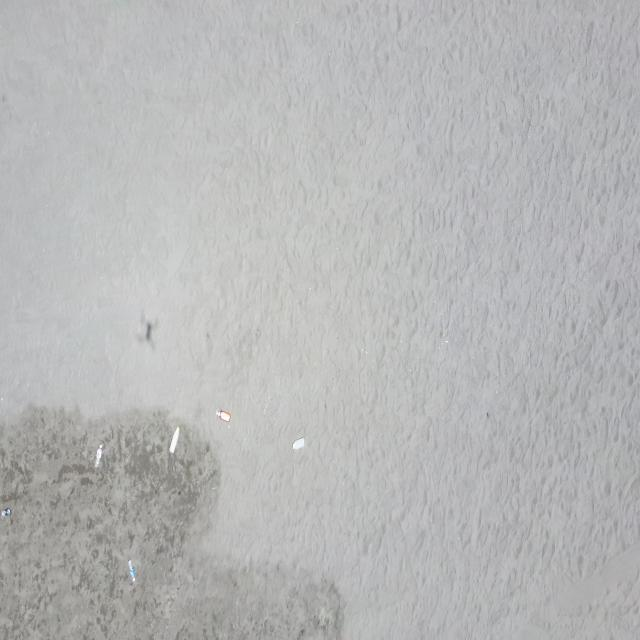Garbage: (136, 313, 156, 347), (168, 427, 179, 452), (95, 443, 103, 467), (128, 559, 136, 582), (216, 409, 230, 420), (292, 436, 303, 448), (0, 507, 11, 516)
